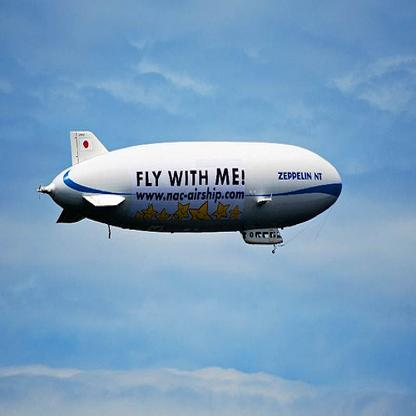Airship: (35, 129, 344, 256)
